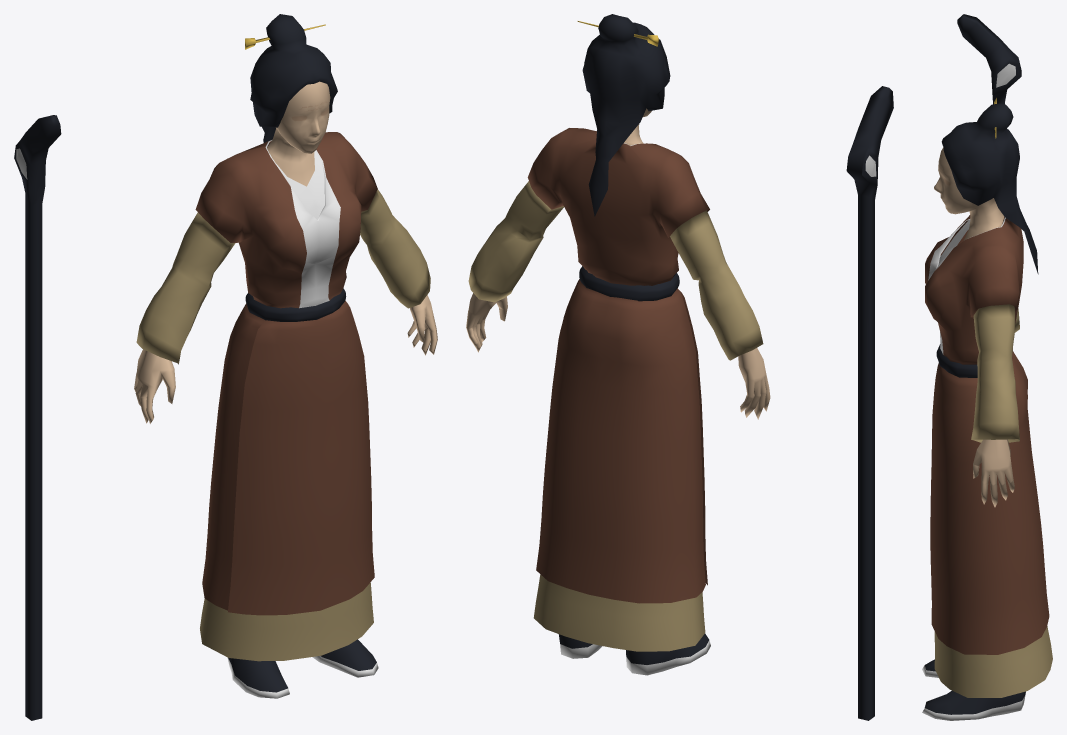
File: JingHuaPoPo_model.fbx
The picture shows the model from 3 angles, left to right: view 1: azimuth 30°, elevation 25°; view 2: azimuth 150°, elevation 25°; view 3: azimuth 270°, elevation 25°; orthographic projection. The views are drawn at different scales.
Parts seen in each view (by area): view 1: JHPP, Zhan; view 2: JHPP, Zhan; view 3: JHPP, Zhan.
Part boxes in pixels (x1,y1,x2,y2): JHPP: [134, 14, 437, 698]; Zhan: [14, 115, 61, 720]; JHPP: [466, 14, 770, 675]; Zhan: [846, 86, 893, 720]; JHPP: [922, 98, 1052, 720]; Zhan: [957, 14, 1021, 104].
Size of the model in its own units: 1.14 by 1.71 by 0.3461.
